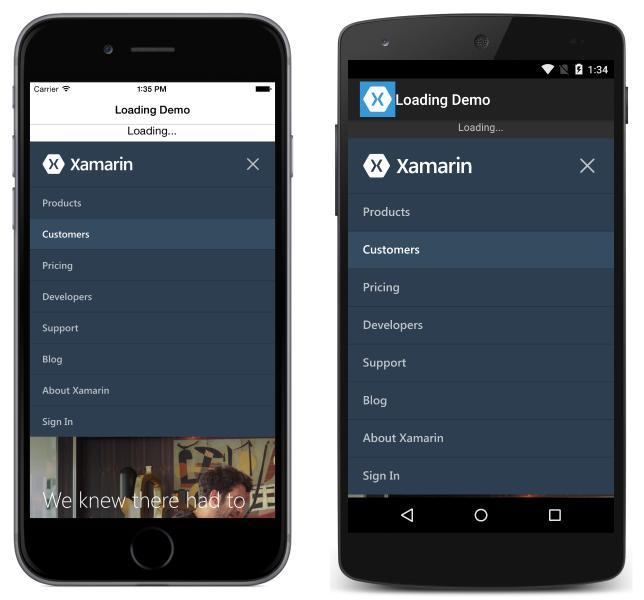icon: (576, 151, 603, 181), (246, 155, 265, 175)
